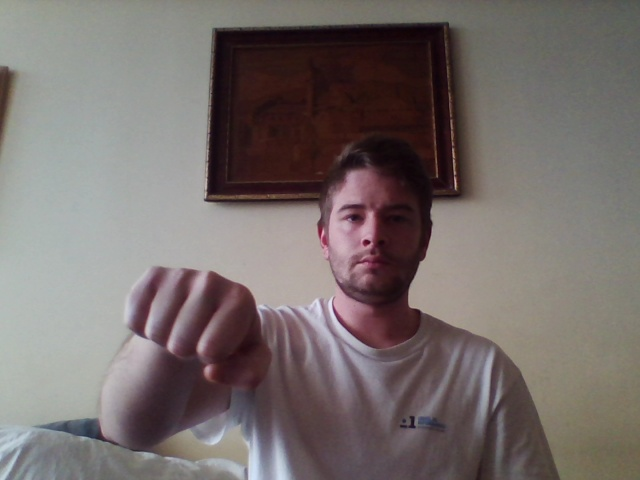da: (122, 262, 272, 391)
